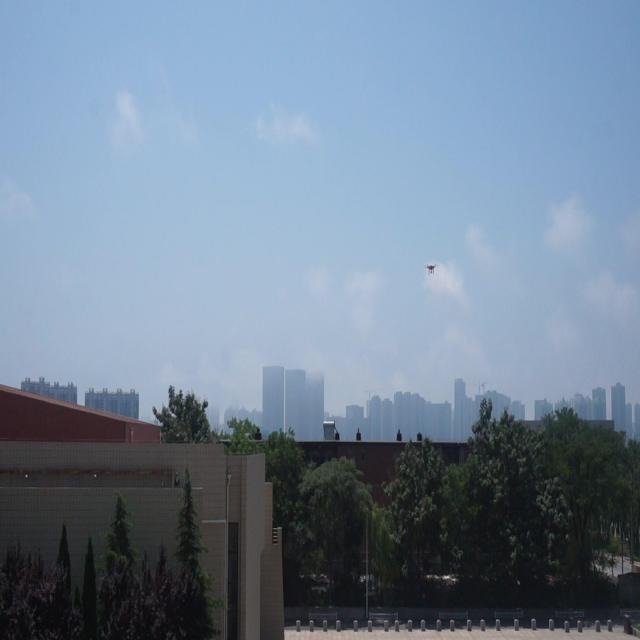UAV: (423, 264, 440, 276)
